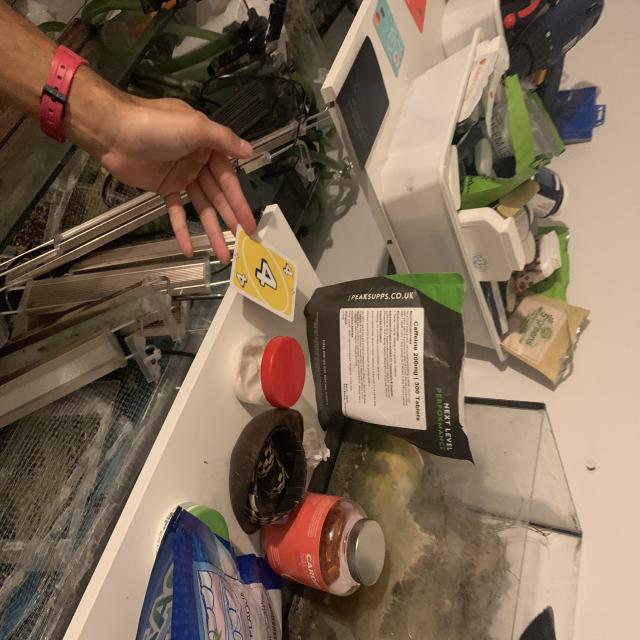lyellow-4: (281, 262, 295, 278)
